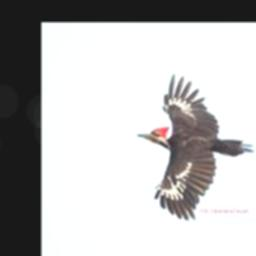Woodpecker: (139, 73, 255, 219)
